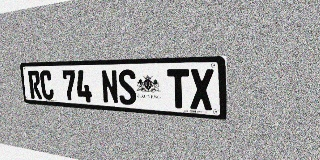4: (75, 70, 92, 102)
7: (61, 70, 78, 101)
C: (39, 70, 54, 100)
N: (101, 70, 119, 104)
R: (28, 71, 42, 99)
S: (117, 69, 137, 105)
T: (167, 69, 190, 109)
X: (190, 69, 214, 110)
